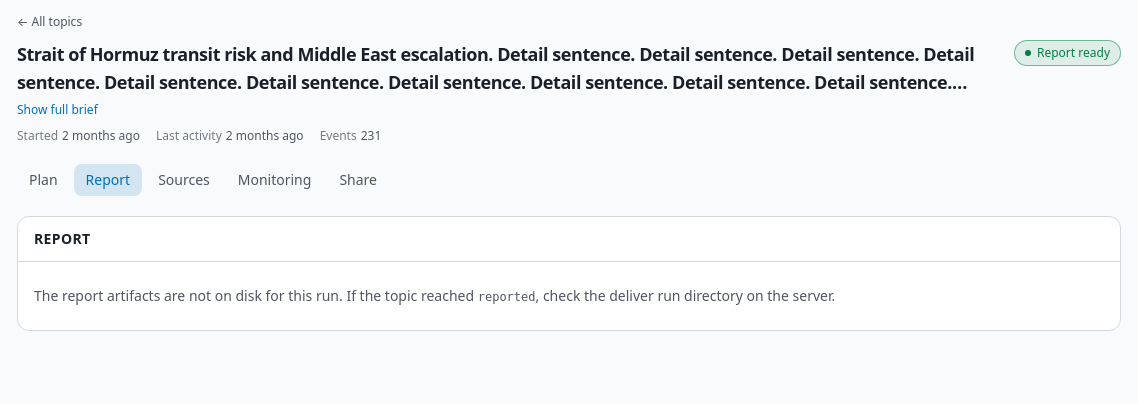
Test case: TopicWorkspacePage — long topic brief › clamps a long brief and offers to expand it
The image size is (1138, 404).
Click the button "Show full brief" at (57, 110), box [17,102,98,118]
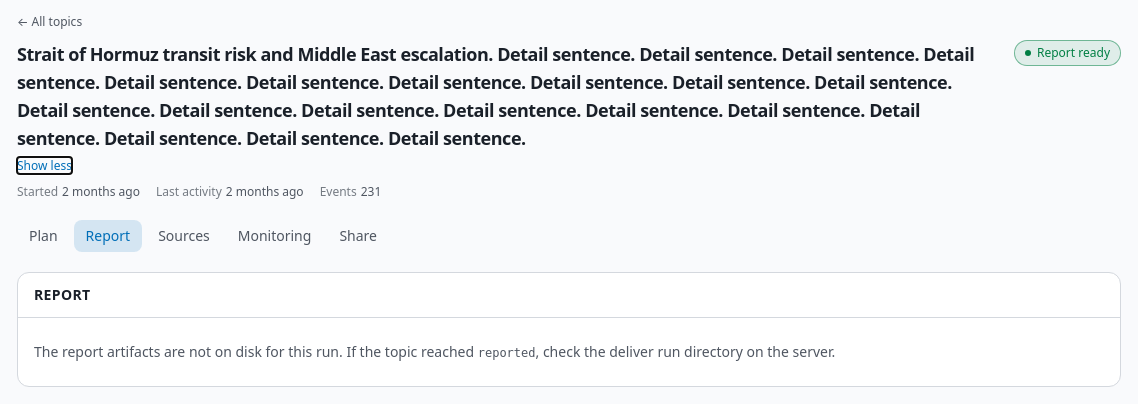
Check: the button "Show less" is shown, box [17,158,72,174]
